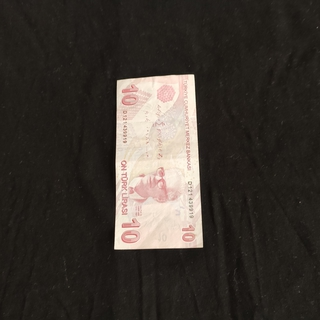10TLBack: (112, 72, 204, 250)
